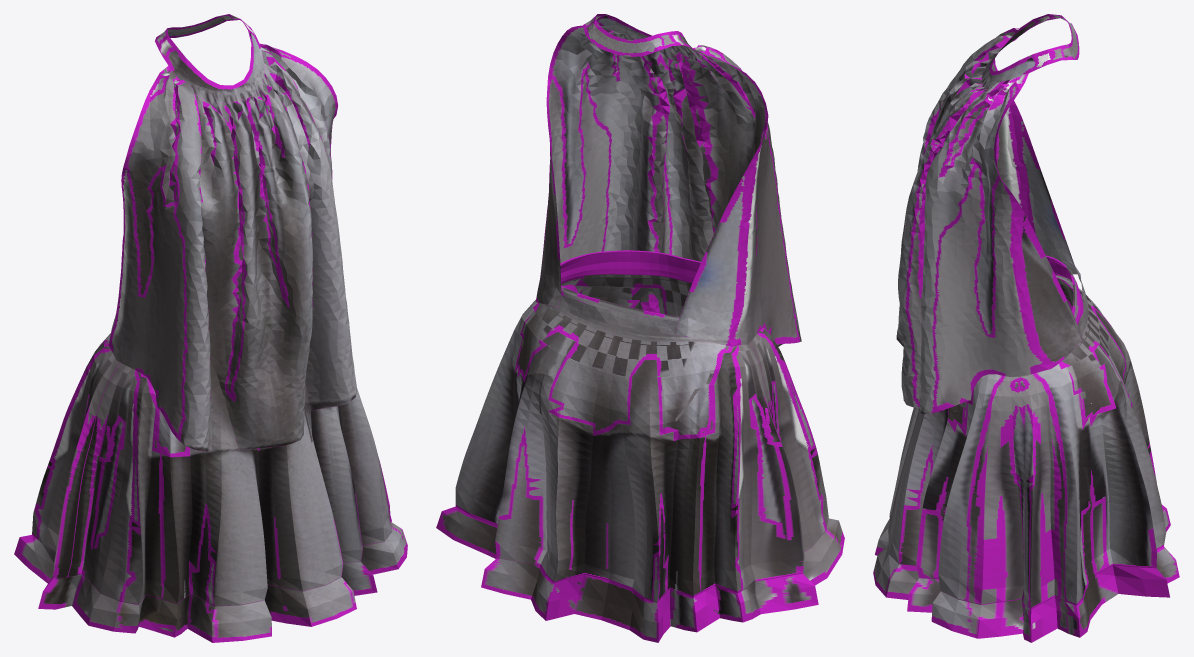
3 renders of one model, left to right at view 1: azimuth 30°, elevation 25°; view 2: azimuth 150°, elevation 25°; view 3: azimuth 270°, elevation 25°, orthographic. The views are drawn at different scales.
Size of the model in its own units: 0.6758 by 1.02 by 0.5149.
1 material, 1 textured.
